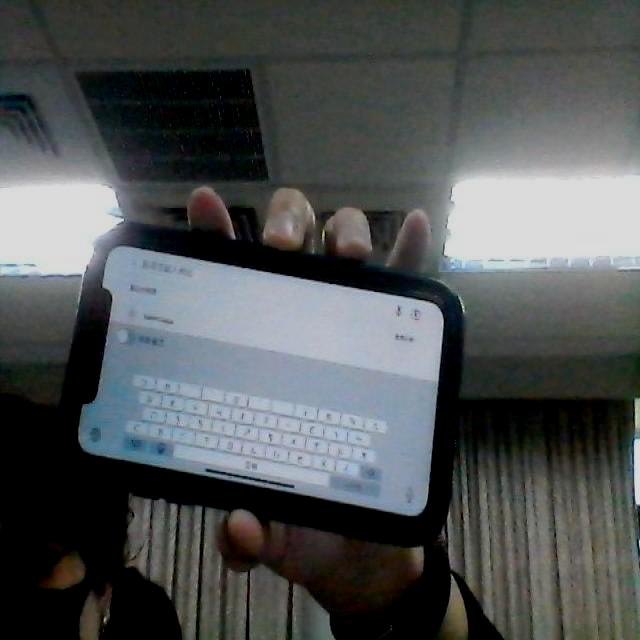phone: (58, 206, 477, 565)
